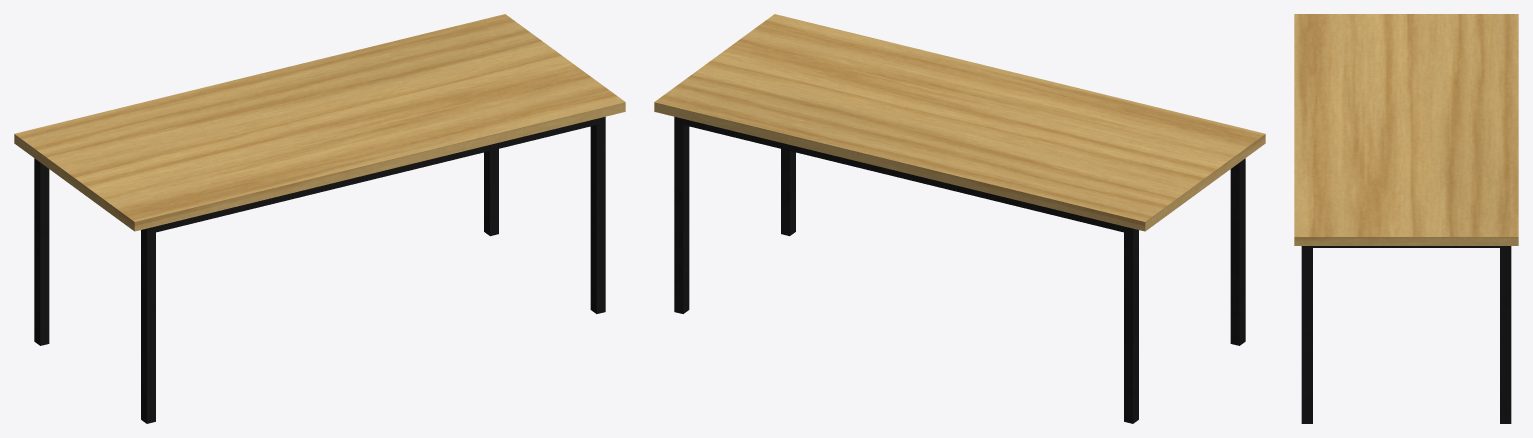
File: SM_MesaCubiculo.fbx
The picture shows the model from 3 angles, left to right: view 1: azimuth 30°, elevation 25°; view 2: azimuth 150°, elevation 25°; view 3: azimuth 270°, elevation 25°; orthographic projection. The views are drawn at different scales.
Parts seen in each view (by area): view 1: SM_MesaCubiculo; view 2: SM_MesaCubiculo; view 3: SM_MesaCubiculo.
Part boxes in pixels (x1,y1,x2,y2): SM_MesaCubiculo: (14, 14, 625, 423); SM_MesaCubiculo: (654, 14, 1265, 423); SM_MesaCubiculo: (1294, 14, 1518, 423).
Bounding box in the file's own units: 137 × 55.7 × 58.26.
